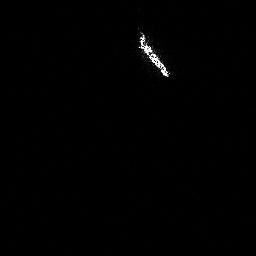ship: (135, 30, 172, 79)
